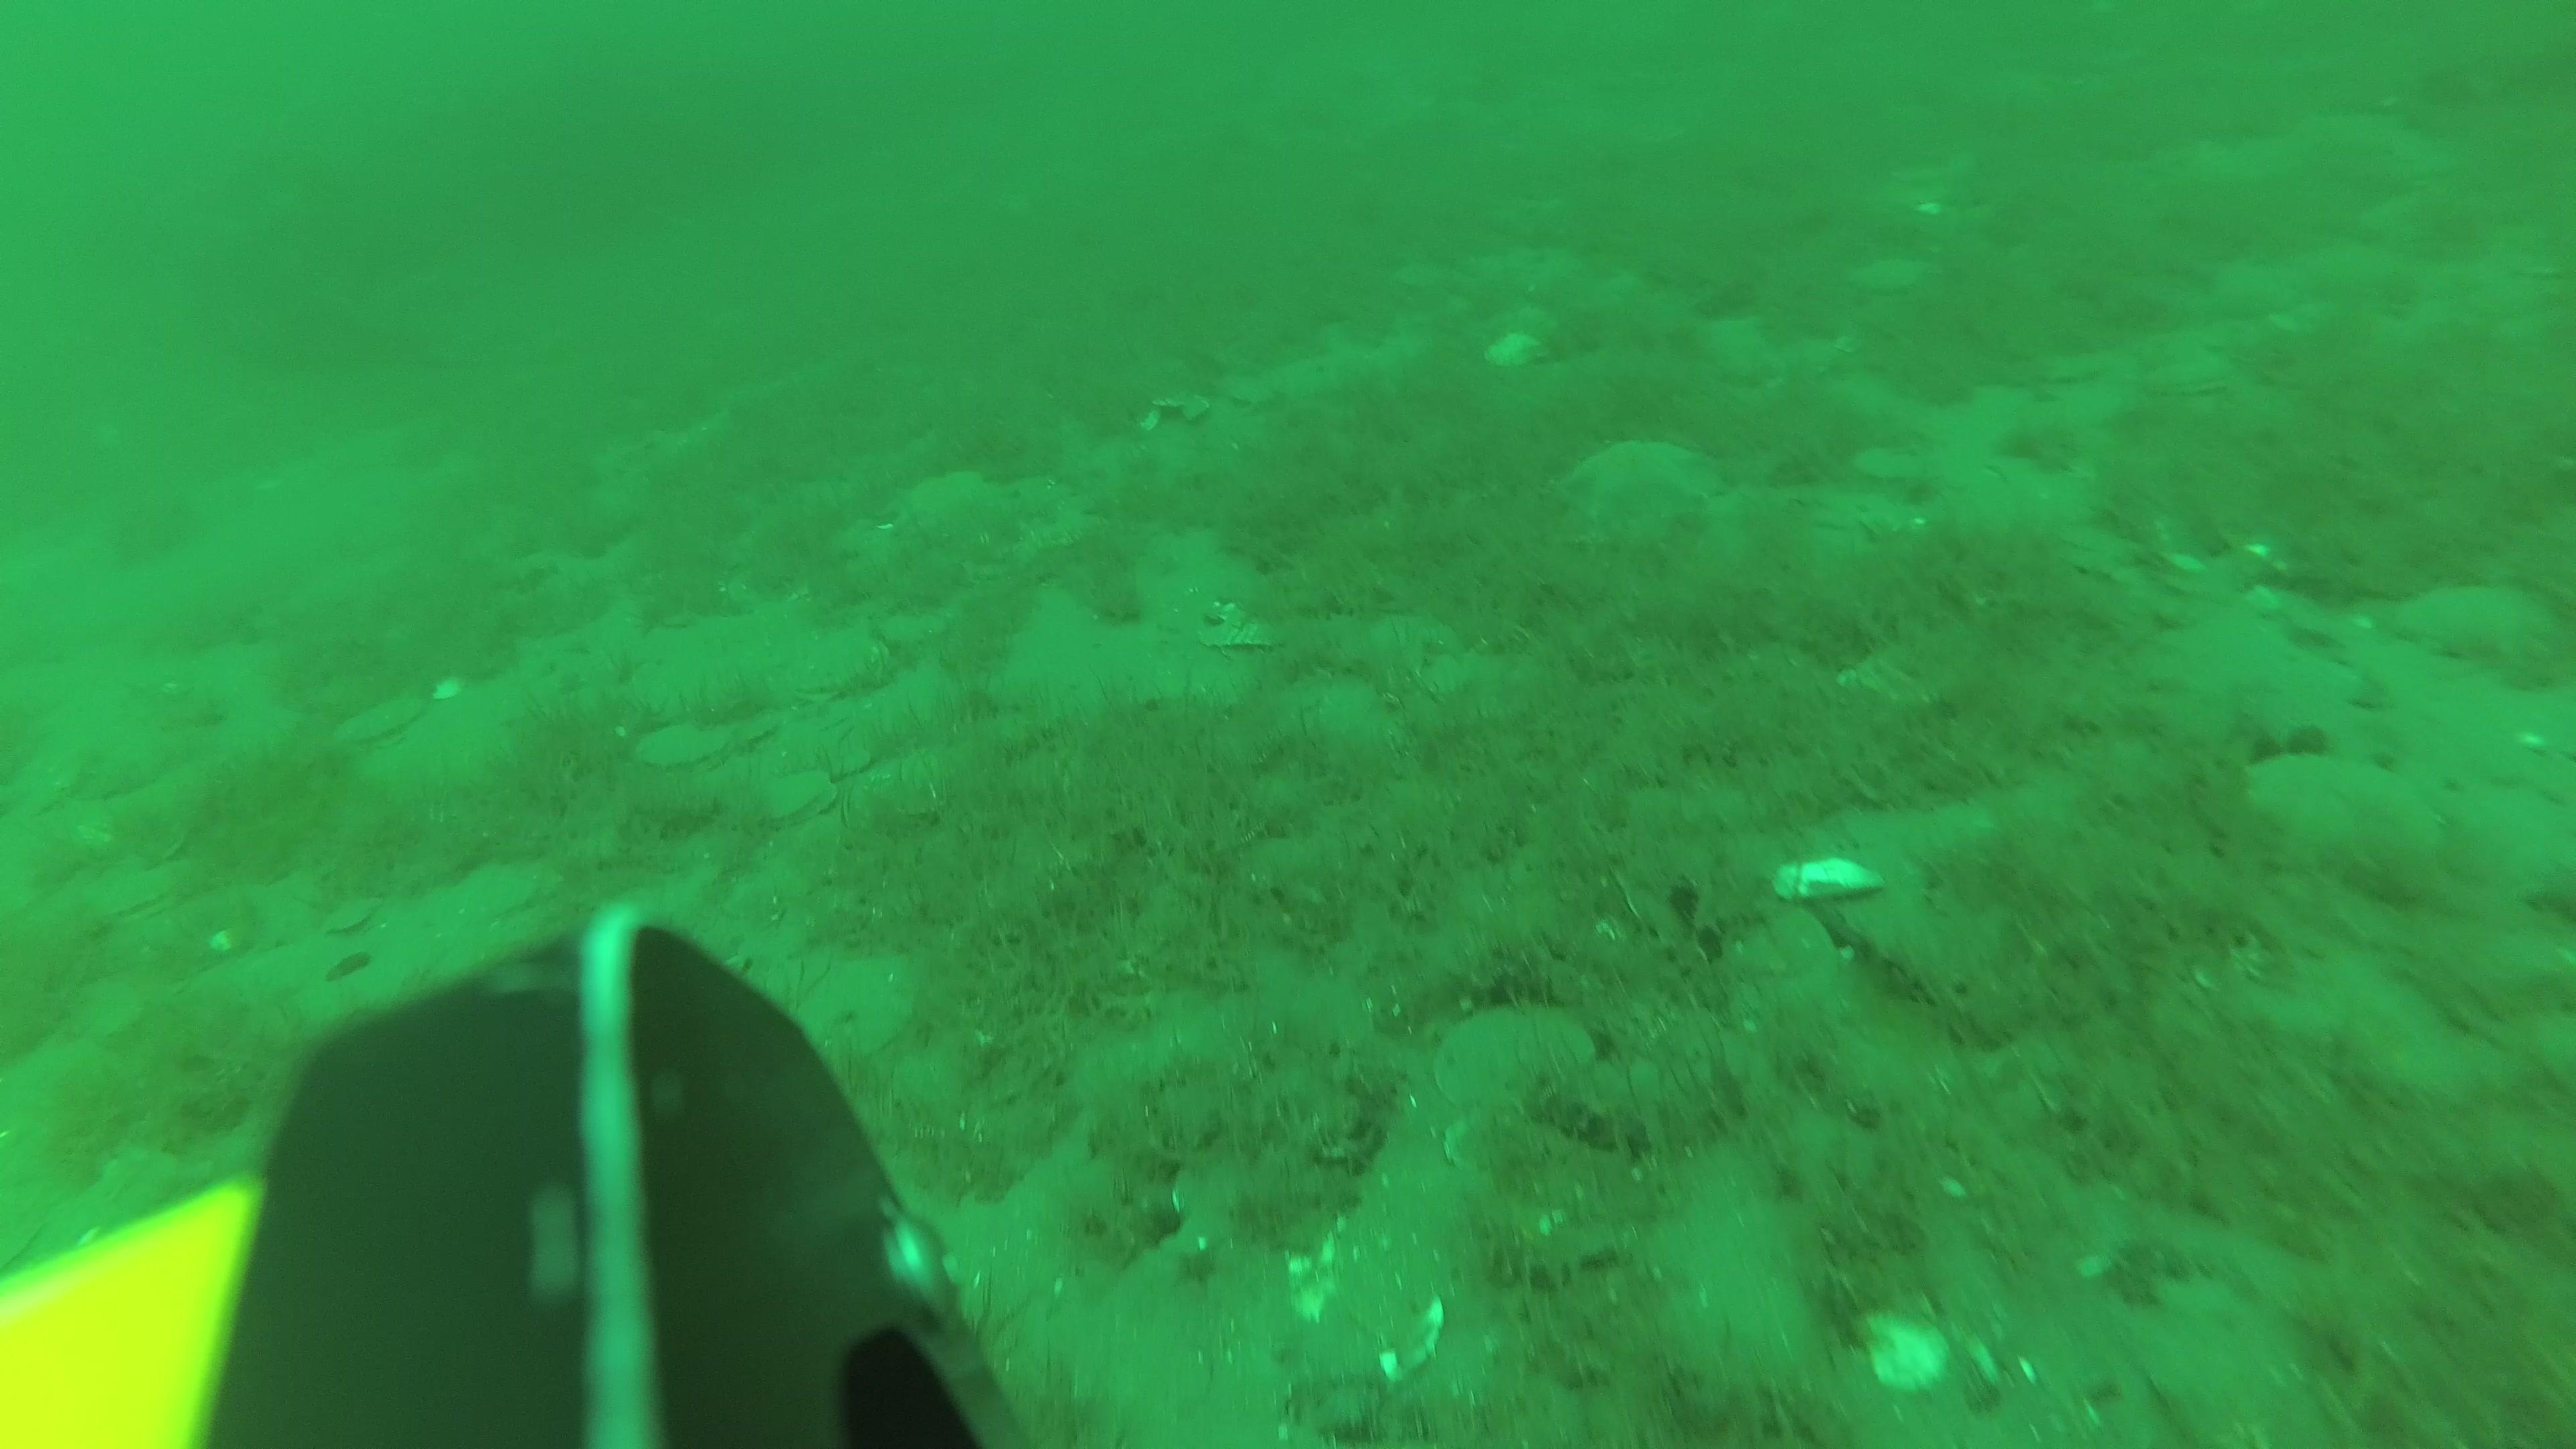scallop: (2242, 750, 2445, 876), (1440, 1000, 1599, 1120), (2399, 577, 2560, 669), (801, 959, 916, 1062), (94, 858, 195, 927), (635, 718, 740, 780), (793, 633, 881, 702), (338, 694, 428, 752), (761, 770, 835, 824)
starfish: (1555, 442, 1718, 538), (895, 471, 1001, 545)
